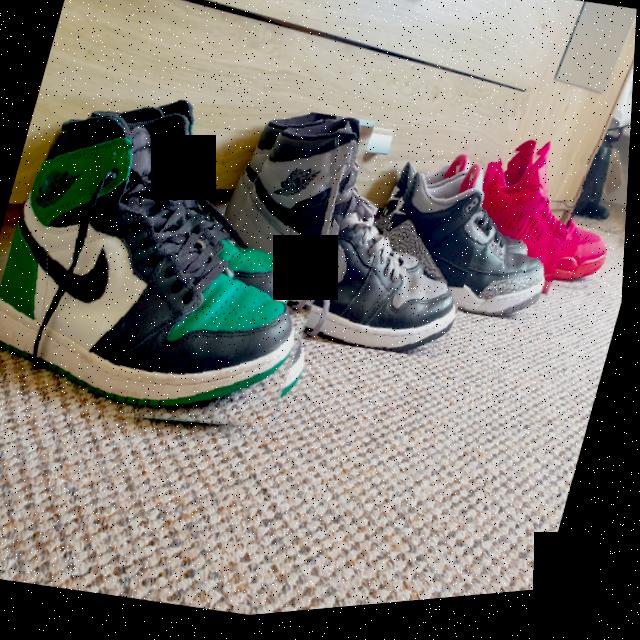shoe: (0, 54, 381, 478), (195, 92, 508, 386), (352, 121, 596, 348), (453, 130, 633, 323)
